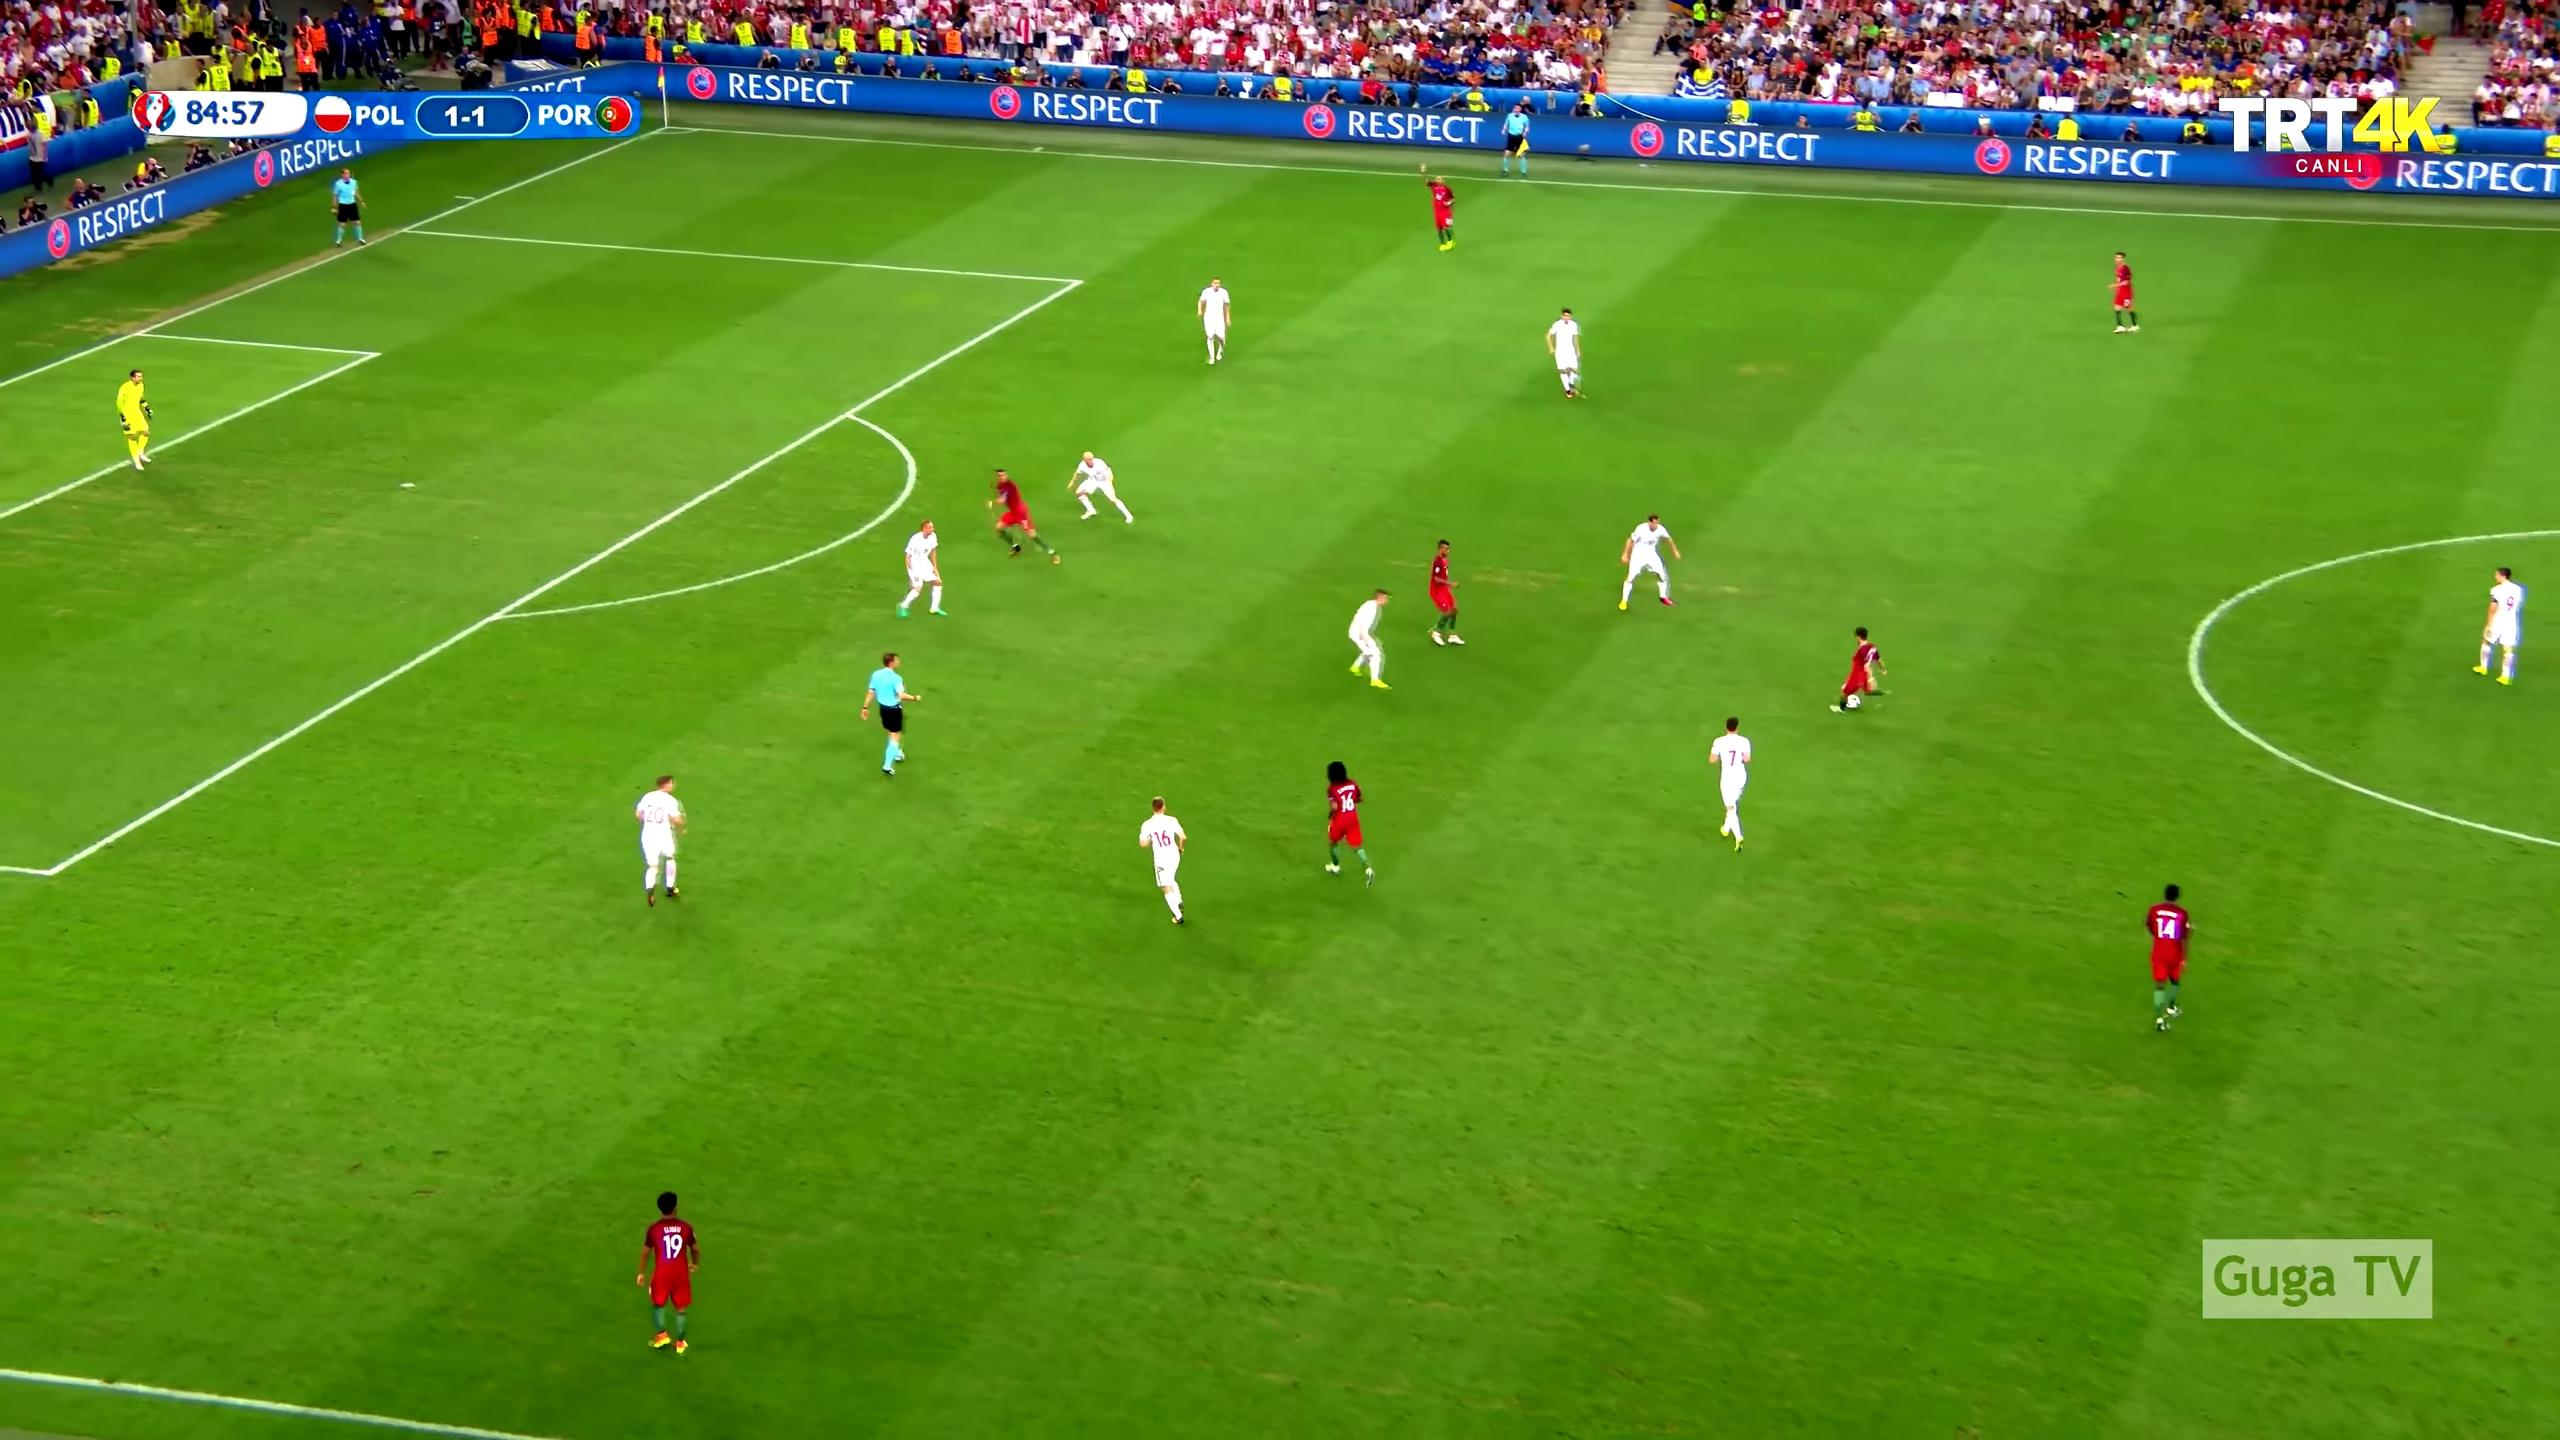ball: (1841, 687, 1864, 717)
goalkeeper: (113, 364, 160, 473)
player: (633, 1187, 707, 1361), (2140, 877, 2202, 1041), (631, 767, 692, 911), (1706, 711, 1762, 857), (983, 466, 1063, 568), (2468, 563, 2530, 693), (1136, 793, 1195, 929), (1614, 509, 1687, 617), (1825, 620, 1899, 720), (1319, 759, 1378, 883), (1065, 447, 1141, 535), (1343, 584, 1400, 695), (893, 516, 951, 621), (1539, 301, 1597, 404), (1416, 157, 1467, 257), (1424, 533, 1465, 654), (1193, 274, 1236, 369), (2106, 247, 2145, 342)
referee: (857, 646, 927, 782), (1490, 99, 1541, 183), (329, 163, 371, 251)
